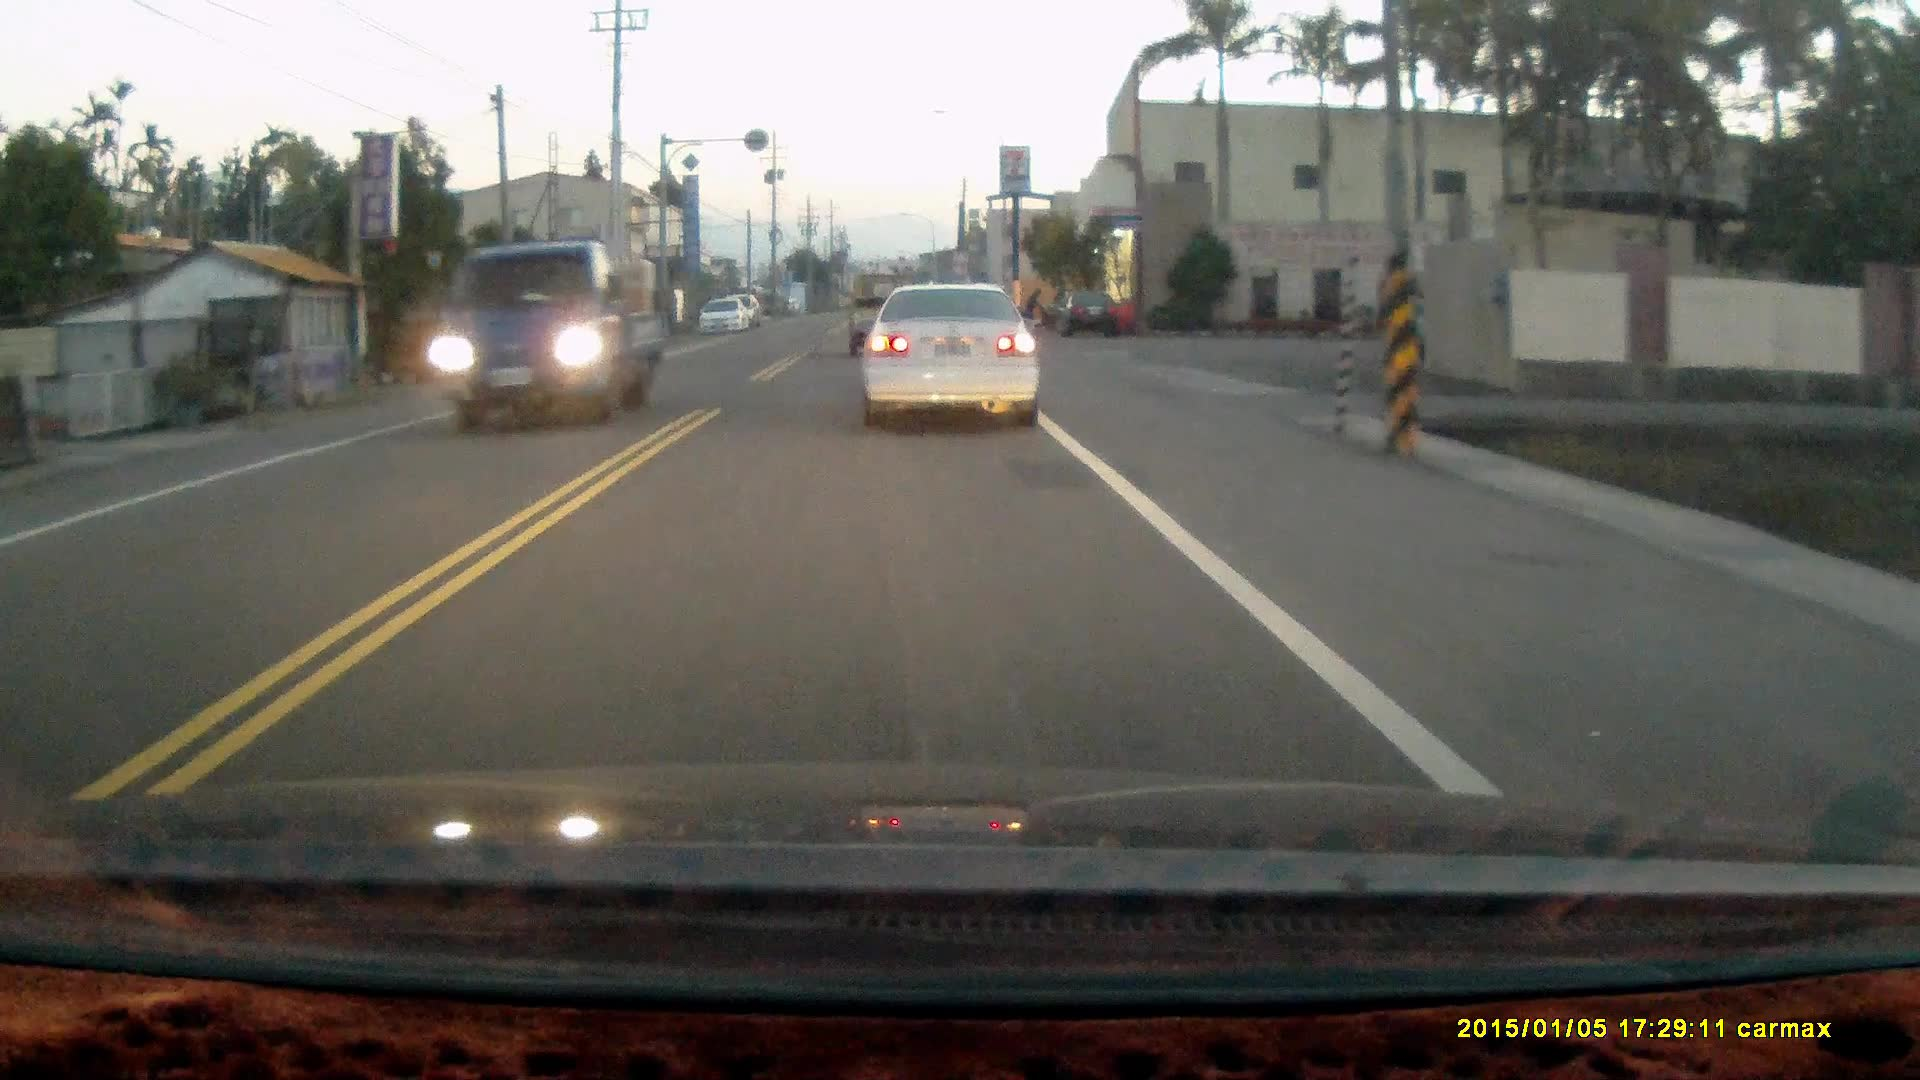rider: (1013, 283, 1053, 330)
vehicle: (435, 238, 670, 427), (868, 279, 1047, 433), (849, 275, 924, 362), (1056, 286, 1121, 340), (696, 294, 753, 339)
